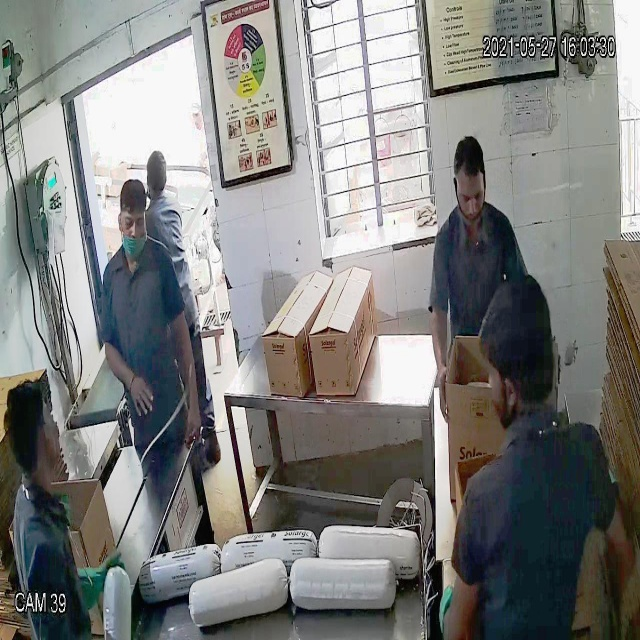Sin_gafas: (451, 181, 487, 214), (116, 212, 148, 237)
